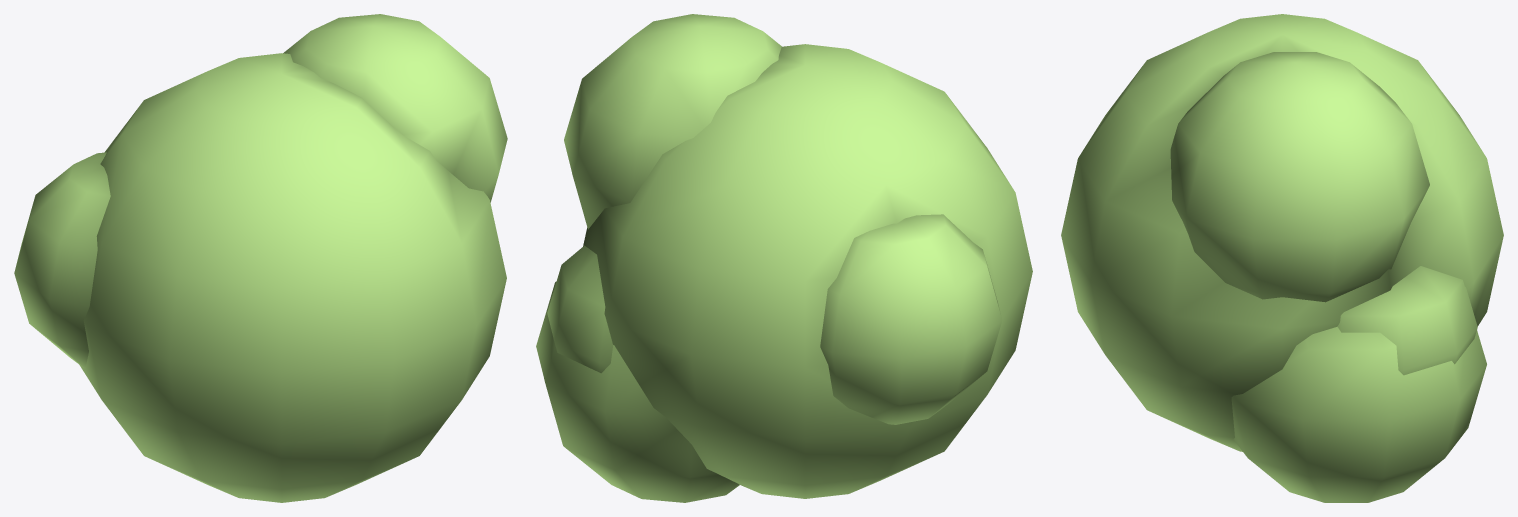
Rendered from StickyBomb.fbx.
The picture shows the model from 3 angles, left to right: view 1: azimuth 30°, elevation 25°; view 2: azimuth 150°, elevation 25°; view 3: azimuth 270°, elevation 25°; orthographic projection. The views are drawn at different scales.
Visible parts, largest first — view 1: StickyBomb; view 2: StickyBomb; view 3: StickyBomb.
Part boxes in pixels (x1,y1,x2,y2): StickyBomb: (14, 14, 507, 502); StickyBomb: (536, 14, 1032, 502); StickyBomb: (1061, 14, 1503, 502).
Bounding box in the file's own units: 0.3271 × 0.3223 × 0.3.
